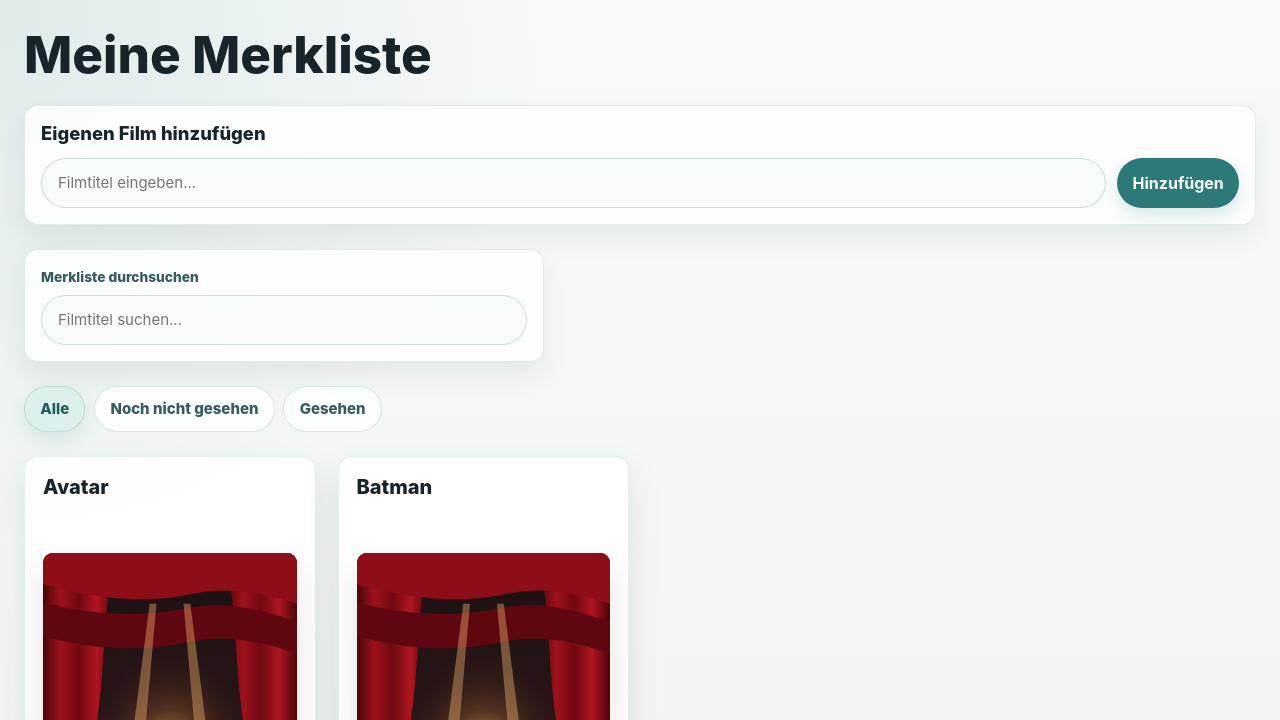
Watchlist › filters movies by seen status
The image size is (1280, 720).
Click the button "Gesehen". click: point(333, 409)
box: top-left (283, 386), bottom-right (382, 432)
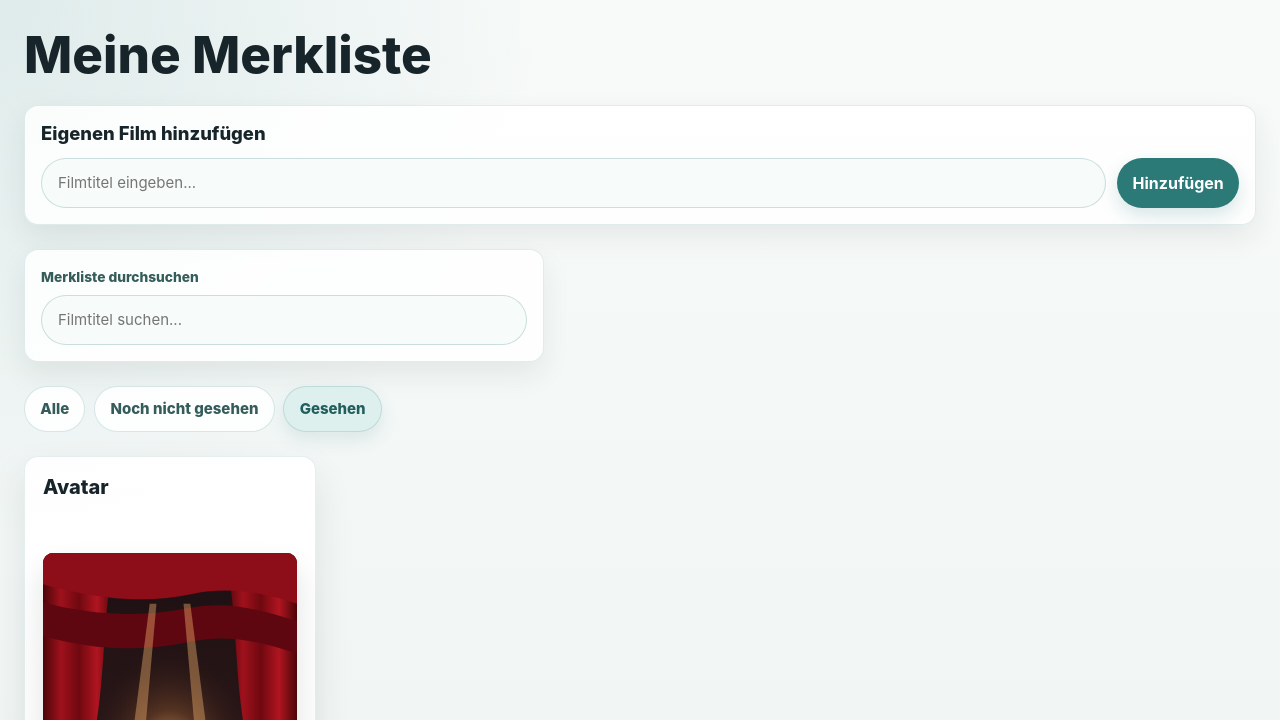
Expected: the text "Avatar" is shown, top-left (43, 474), bottom-right (109, 498)
Now the text "Batman" is gone
